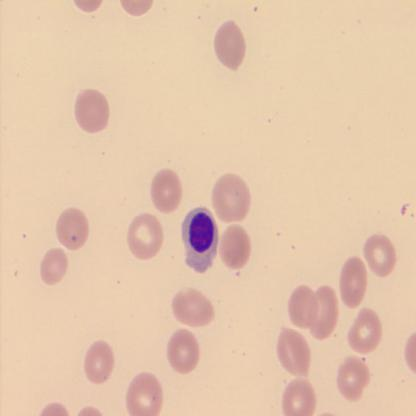NRC: (181, 204, 219, 274)
